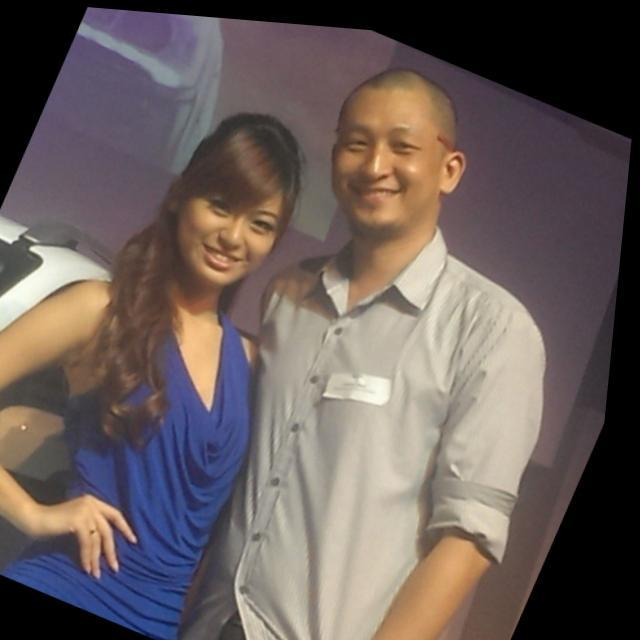Nonhelmet: (152, 105, 308, 290), (326, 65, 467, 239)
